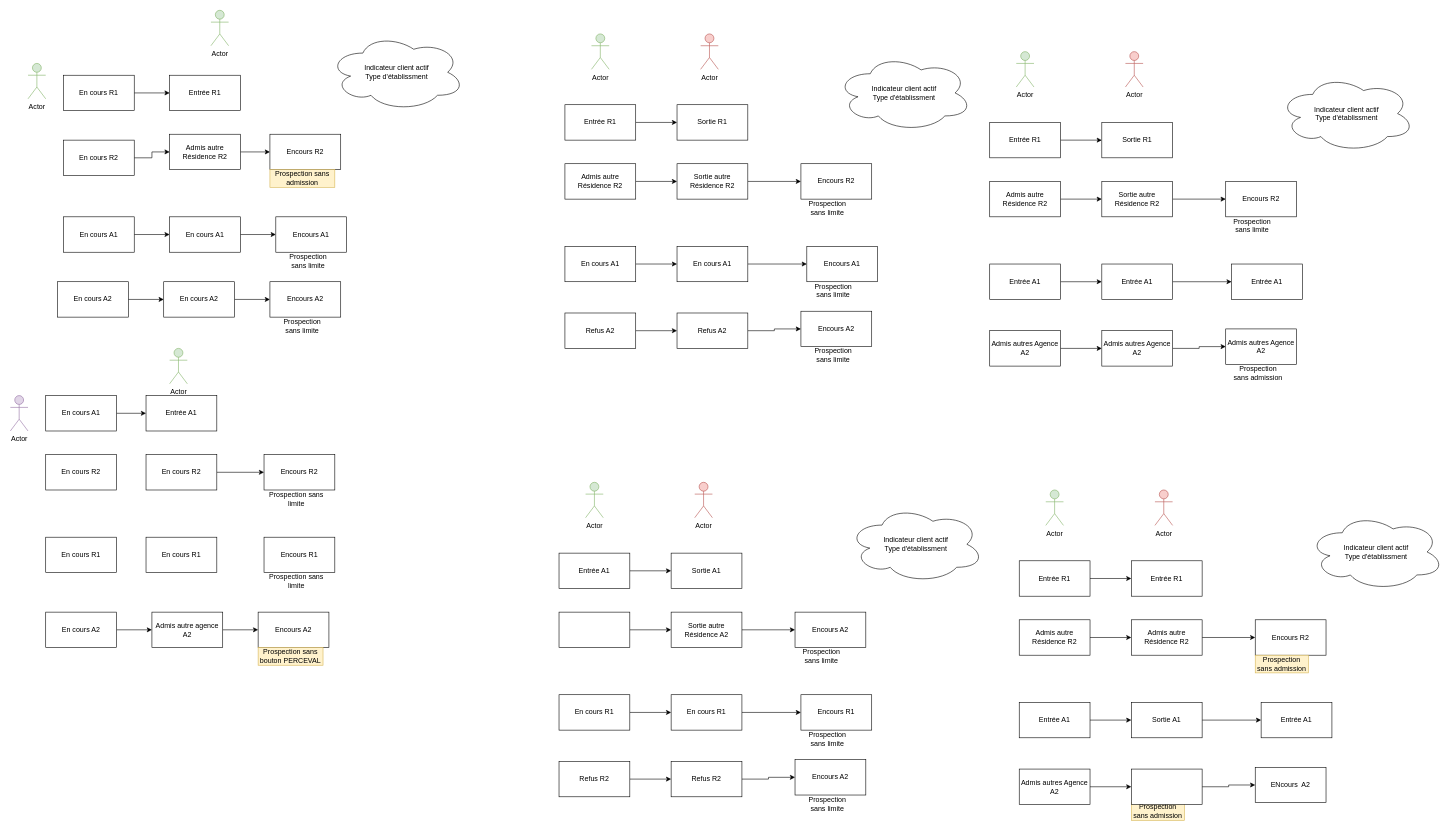
The diagram is 1454 pixels wide and 831 high, and some of its shapes have lost their labels. The shapes that lost their labels are listed below. From the top down, each one's centre as x and y in pixels, then its label:
point (594, 630): Admis autre Résidence A2
point (1166, 786): Sortie autres Agence A2
